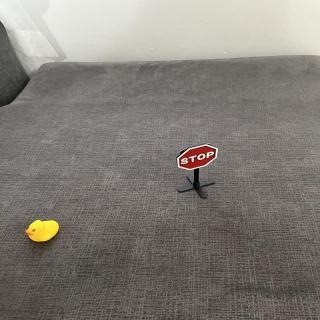duck_regular: (26, 219, 61, 244)
sign_stop: (178, 143, 220, 172)
